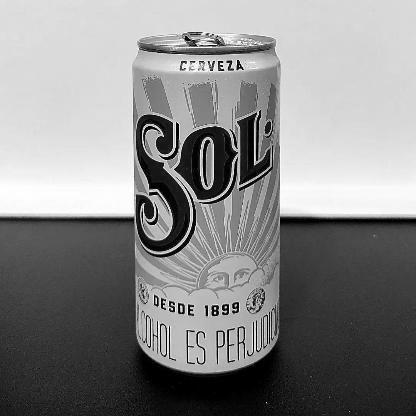alumunium_can: (127, 26, 290, 376)
